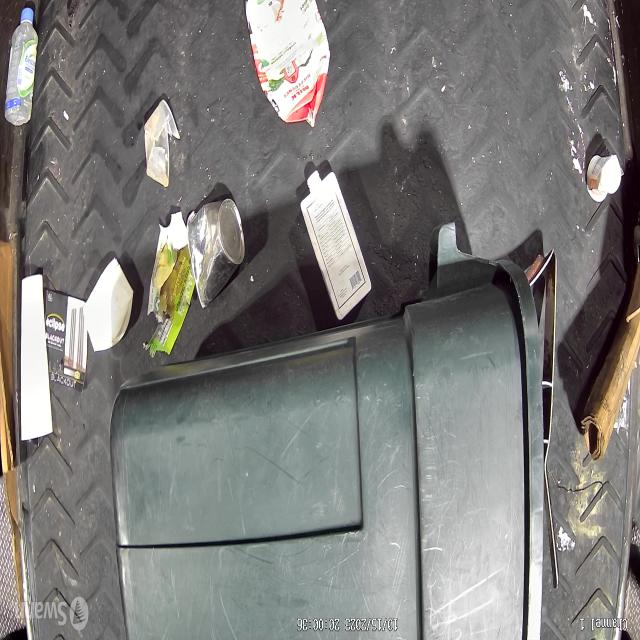can: (186, 199, 245, 309)
milk_jug: (300, 165, 372, 322)
non_white_jug: (242, 0, 330, 130)
plastic_bottle: (4, 5, 39, 127)
